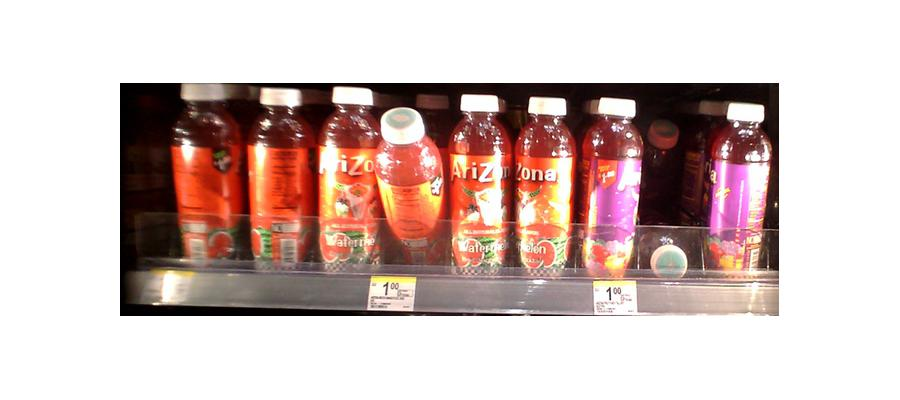bottle: (171, 77, 244, 269), (246, 82, 314, 271), (317, 82, 378, 271), (580, 90, 640, 279), (448, 92, 509, 276), (514, 93, 574, 278), (379, 105, 445, 267), (711, 101, 769, 276), (646, 213, 694, 289)
